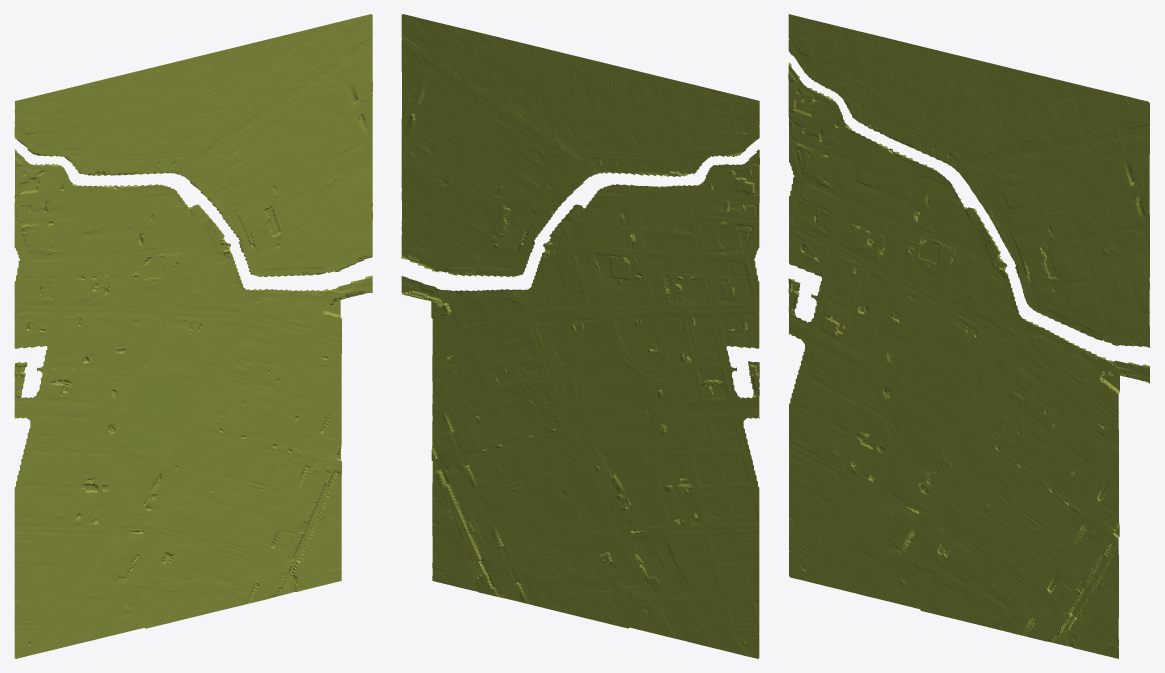
File: TokyoStation_Relief.fbx
The picture shows the model from 3 angles, left to right: view 1: azimuth 30°, elevation 25°; view 2: azimuth 150°, elevation 25°; view 3: azimuth 330°, elevation 25°; orthographic projection.
Visible parts, largest first — view 1: dem_8bc9f84b-c756-4ebb-bfc0-1f99a8cc5ff4, dem_fd6f1e34-327a-40ae-b307-f08160a199e9, dem_ee1d9bc9-7be7-4757-a4d9-eeb2d5955f51, dem_2132d7ef-9953-4b41-a0bc-9dae2b765a28, dem_5c9985e8-4a7e-491d-a1e7-c9f178498ddc, dem_34fadf74-29fa-41e7-91d4-50fbe2da967a, dem_64464160-3175-4968-bf83-f09313112a5f, dem_ca5457d0-b488-4f93-bdf2-ec0341801430, dem_36fa1d4a-c4dc-49ef-8fdd-a6a155c7da79, dem_0fcfd829-0252-443f-a593-e31c495fd9f0; view 2: dem_8bc9f84b-c756-4ebb-bfc0-1f99a8cc5ff4, dem_fd6f1e34-327a-40ae-b307-f08160a199e9, dem_ee1d9bc9-7be7-4757-a4d9-eeb2d5955f51, dem_2132d7ef-9953-4b41-a0bc-9dae2b765a28, dem_5c9985e8-4a7e-491d-a1e7-c9f178498ddc, dem_64464160-3175-4968-bf83-f09313112a5f, dem_34fadf74-29fa-41e7-91d4-50fbe2da967a, dem_36fa1d4a-c4dc-49ef-8fdd-a6a155c7da79, dem_ca5457d0-b488-4f93-bdf2-ec0341801430, dem_0fcfd829-0252-443f-a593-e31c495fd9f0; view 3: dem_8bc9f84b-c756-4ebb-bfc0-1f99a8cc5ff4, dem_fd6f1e34-327a-40ae-b307-f08160a199e9, dem_ee1d9bc9-7be7-4757-a4d9-eeb2d5955f51, dem_2132d7ef-9953-4b41-a0bc-9dae2b765a28, dem_5c9985e8-4a7e-491d-a1e7-c9f178498ddc, dem_64464160-3175-4968-bf83-f09313112a5f, dem_34fadf74-29fa-41e7-91d4-50fbe2da967a, dem_ca5457d0-b488-4f93-bdf2-ec0341801430, dem_36fa1d4a-c4dc-49ef-8fdd-a6a155c7da79, dem_0fcfd829-0252-443f-a593-e31c495fd9f0.
Boxes of the visible parts, left/top/right/bottom form: dem_8bc9f84b-c756-4ebb-bfc0-1f99a8cc5ff4: left=45, top=299, right=341, bottom=626; dem_fd6f1e34-327a-40ae-b307-f08160a199e9: left=45, top=47, right=342, bottom=372; dem_ee1d9bc9-7be7-4757-a4d9-eeb2d5955f51: left=44, top=554, right=341, bottom=651; dem_2132d7ef-9953-4b41-a0bc-9dae2b765a28: left=45, top=21, right=341, bottom=118; dem_5c9985e8-4a7e-491d-a1e7-c9f178498ddc: left=340, top=39, right=372, bottom=299; dem_34fadf74-29fa-41e7-91d4-50fbe2da967a: left=14, top=119, right=46, bottom=379; dem_64464160-3175-4968-bf83-f09313112a5f: left=14, top=373, right=44, bottom=633; dem_ca5457d0-b488-4f93-bdf2-ec0341801430: left=14, top=93, right=45, bottom=126; dem_36fa1d4a-c4dc-49ef-8fdd-a6a155c7da79: left=342, top=14, right=372, bottom=46; dem_0fcfd829-0252-443f-a593-e31c495fd9f0: left=14, top=626, right=44, bottom=658; dem_8bc9f84b-c756-4ebb-bfc0-1f99a8cc5ff4: left=431, top=301, right=728, bottom=626; dem_fd6f1e34-327a-40ae-b307-f08160a199e9: left=431, top=47, right=728, bottom=372; dem_ee1d9bc9-7be7-4757-a4d9-eeb2d5955f51: left=432, top=554, right=728, bottom=651; dem_2132d7ef-9953-4b41-a0bc-9dae2b765a28: left=432, top=21, right=728, bottom=118; dem_5c9985e8-4a7e-491d-a1e7-c9f178498ddc: left=401, top=39, right=432, bottom=301; dem_64464160-3175-4968-bf83-f09313112a5f: left=729, top=373, right=759, bottom=633; dem_34fadf74-29fa-41e7-91d4-50fbe2da967a: left=727, top=119, right=759, bottom=379; dem_36fa1d4a-c4dc-49ef-8fdd-a6a155c7da79: left=401, top=14, right=432, bottom=46; dem_ca5457d0-b488-4f93-bdf2-ec0341801430: left=729, top=93, right=759, bottom=126; dem_0fcfd829-0252-443f-a593-e31c495fd9f0: left=729, top=626, right=759, bottom=658; dem_8bc9f84b-c756-4ebb-bfc0-1f99a8cc5ff4: left=819, top=303, right=1119, bottom=631; dem_fd6f1e34-327a-40ae-b307-f08160a199e9: left=819, top=47, right=1119, bottom=375; dem_ee1d9bc9-7be7-4757-a4d9-eeb2d5955f51: left=819, top=559, right=1118, bottom=658; dem_2132d7ef-9953-4b41-a0bc-9dae2b765a28: left=819, top=21, right=1118, bottom=120; dem_5c9985e8-4a7e-491d-a1e7-c9f178498ddc: left=1118, top=120, right=1150, bottom=383; dem_64464160-3175-4968-bf83-f09313112a5f: left=788, top=296, right=819, bottom=558; dem_34fadf74-29fa-41e7-91d4-50fbe2da967a: left=788, top=40, right=821, bottom=302; dem_ca5457d0-b488-4f93-bdf2-ec0341801430: left=788, top=14, right=819, bottom=47; dem_36fa1d4a-c4dc-49ef-8fdd-a6a155c7da79: left=1119, top=94, right=1149, bottom=127; dem_0fcfd829-0252-443f-a593-e31c495fd9f0: left=789, top=551, right=819, bottom=584.
Size of the model in its own units: 1365 by 15.37 by 2040.
1 material, 1 textured.
